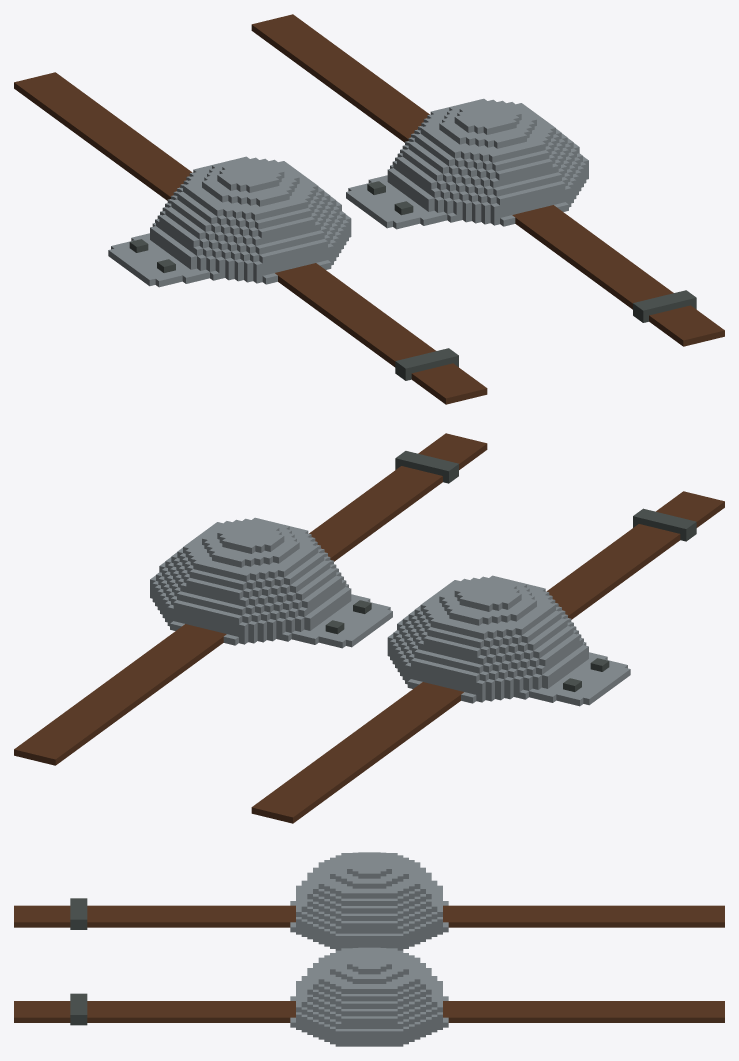
The model's file is ch_armguard_metal_sheets_elbows.glb.
The picture shows the model from 3 angles, top to bottom: view 1: azimuth 30°, elevation 25°; view 2: azimuth 150°, elevation 25°; view 3: azimuth 270°, elevation 25°; orthographic projection. The views are drawn at different scales.
Parts seen in each view (by area): view 1: ch_armguard_metal_sheets_elbows:compound; view 2: ch_armguard_metal_sheets_elbows:compound; view 3: ch_armguard_metal_sheets_elbows:compound.
Part boxes in pixels (left/top/right/bottom): ch_armguard_metal_sheets_elbows:compound: left=14, top=14, right=724, bottom=404; ch_armguard_metal_sheets_elbows:compound: left=14, top=433, right=724, bottom=823; ch_armguard_metal_sheets_elbows:compound: left=14, top=852, right=724, bottom=1046.
Size of the model in its own units: 0.296 by 0.044 by 0.504.
